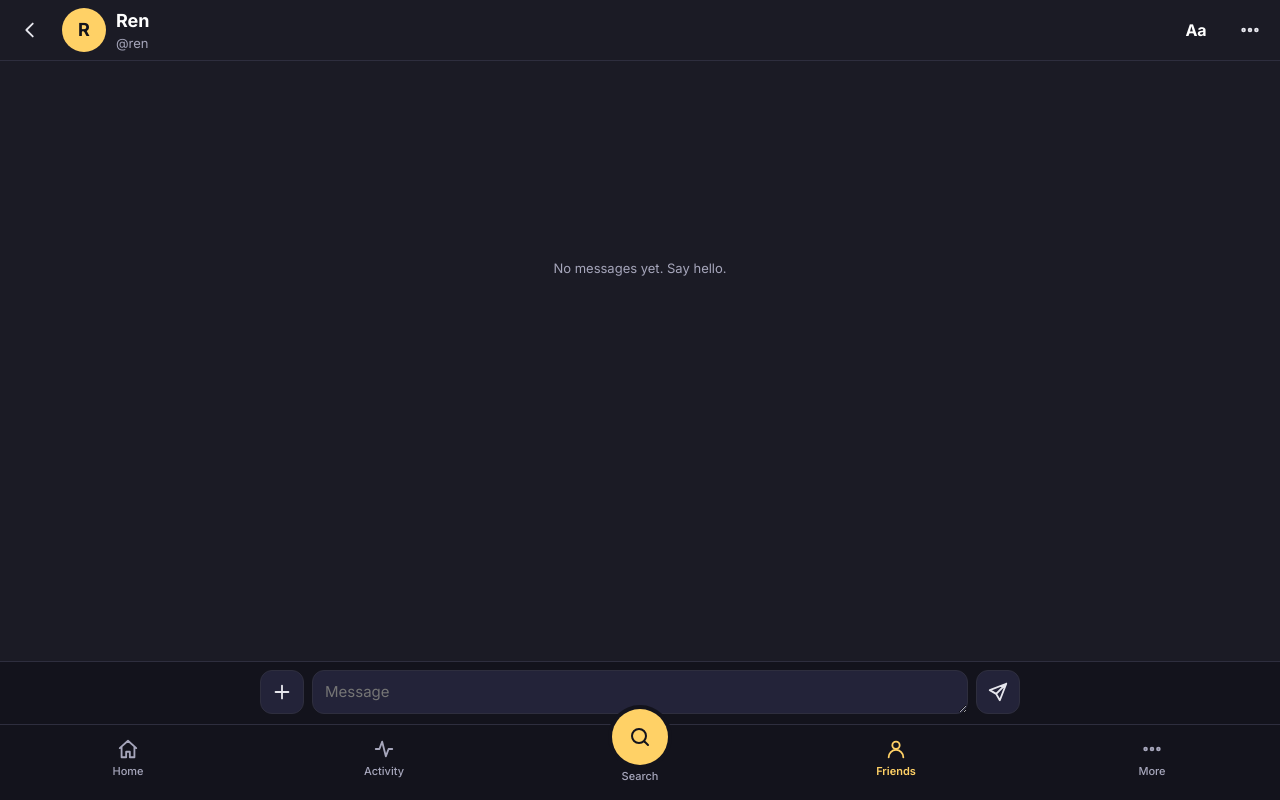
Scenario: the composer + menu › Escape closes the menu and returns focus to +; arrows move between items
The image size is (1280, 800).
Click the button named "More options" at x=282, y=692, box [260, 670, 304, 714]
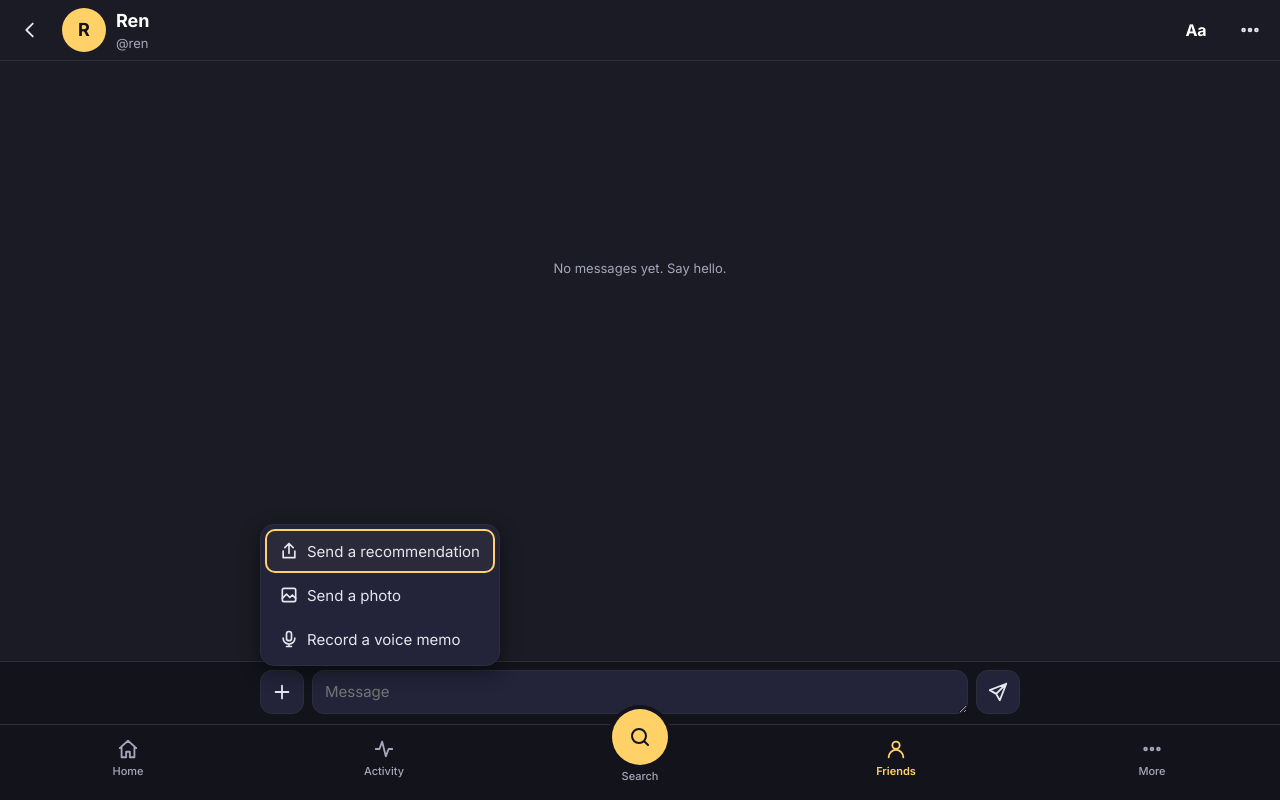
Now the number of menu items is 3, box [265, 529, 495, 573]; [265, 573, 495, 617]; [265, 617, 495, 661]
Press Arrowdown
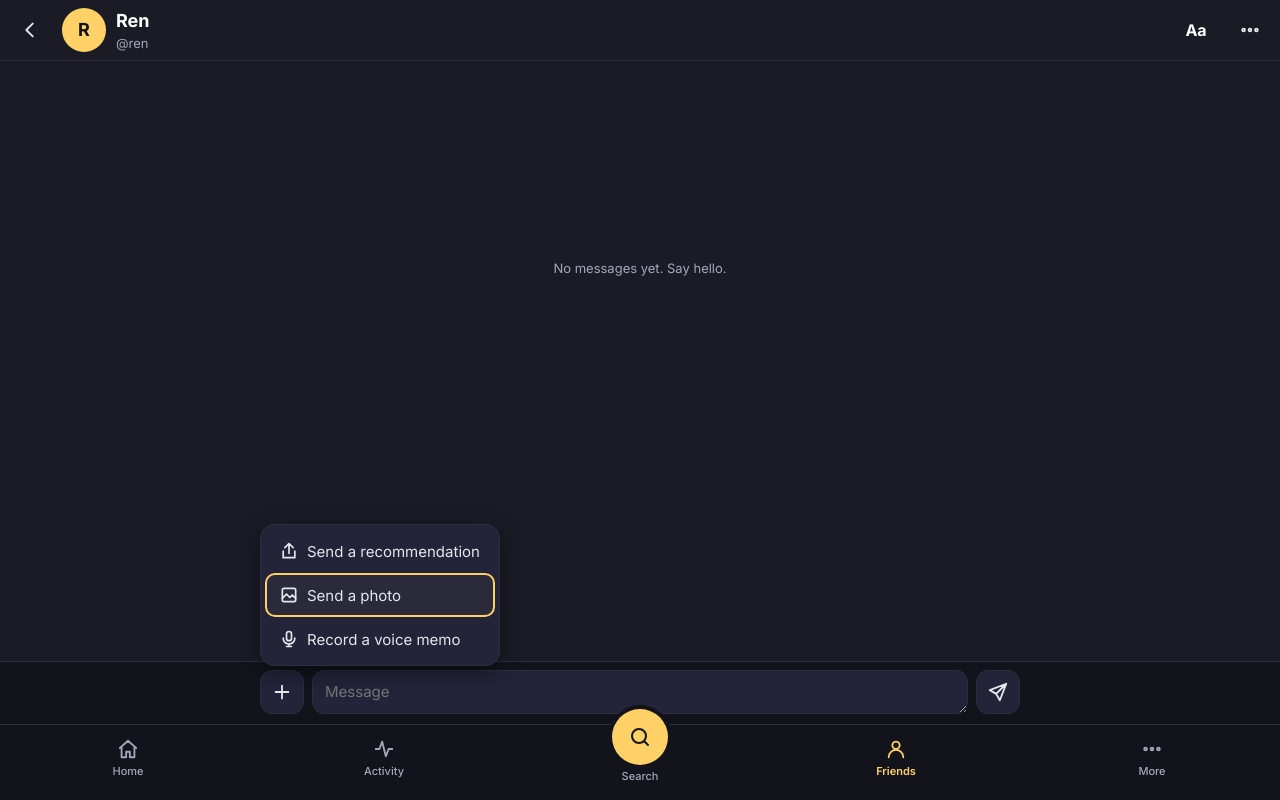
Press Escape
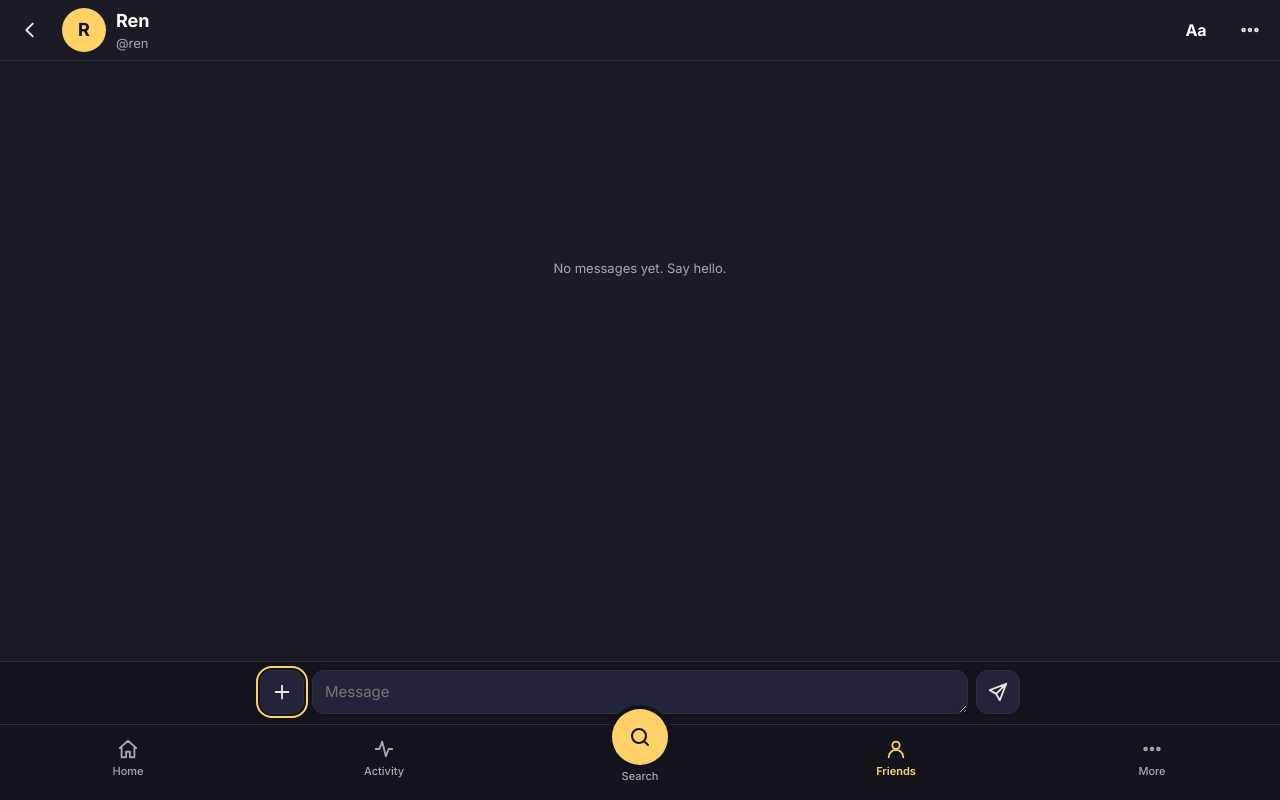
Now the menu is gone
